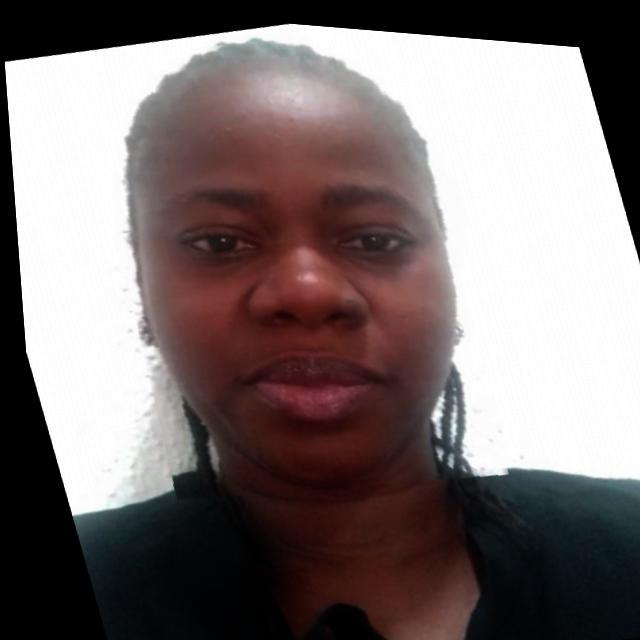sad: (56, 4, 522, 533)
